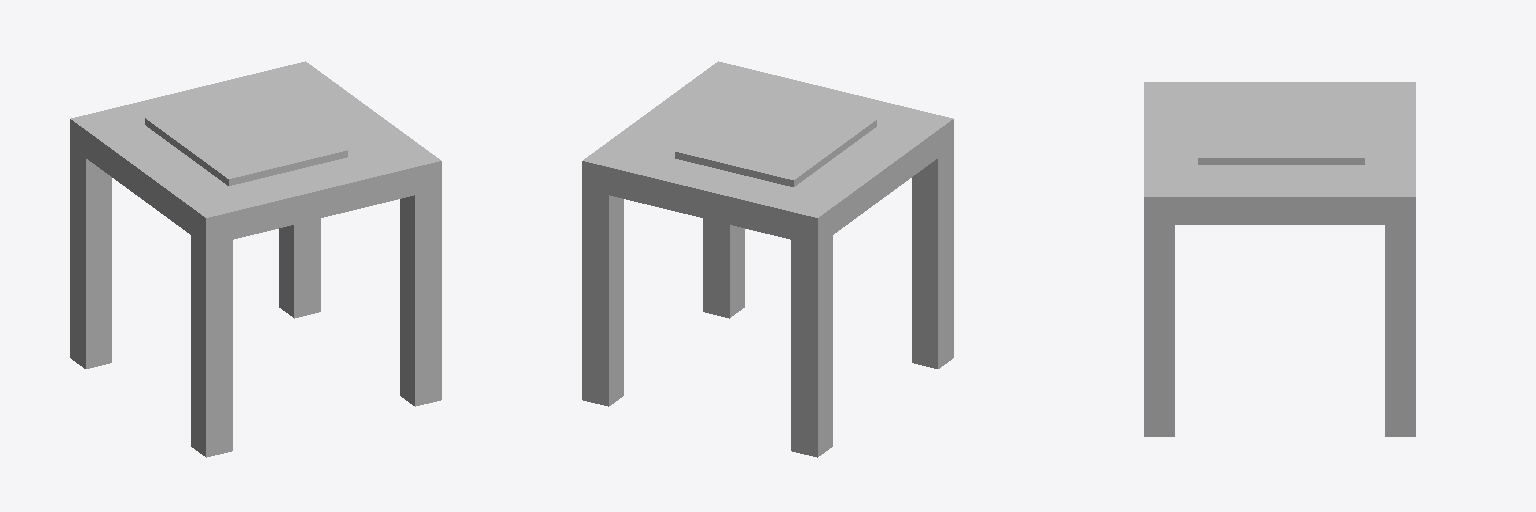
Rendered from MesaCortar.obj.
3 renders of one model, left to right at view 1: azimuth 30°, elevation 25°; view 2: azimuth 150°, elevation 25°; view 3: azimuth 270°, elevation 25°, orthographic.
Visible parts, largest first — view 1: object 1; view 2: object 1; view 3: object 1.
Boxes of the visible parts, <box> form: object 1: <box>70,61,441,457</box>; object 1: <box>582,61,953,457</box>; object 1: <box>1144,82,1415,436</box>.
Bounding box in the file's own units: 17.6 × 17.6 × 17.6.